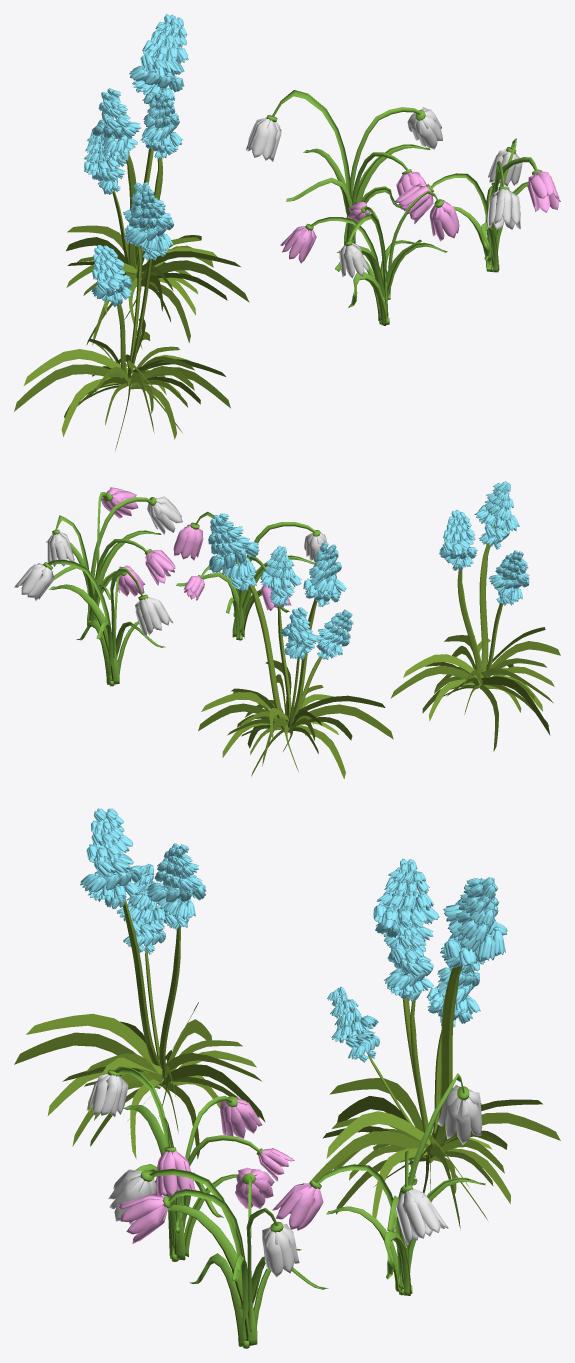
File: flowers_lib.glb
The picture shows the model from 3 angles, top to bottom: view 1: azimuth 30°, elevation 25°; view 2: azimuth 150°, elevation 25°; view 3: azimuth 270°, elevation 25°; orthographic projection. The views are drawn at different scales.
Bounding box in the file's own units: 7.77 × 3.84 × 5.14.
